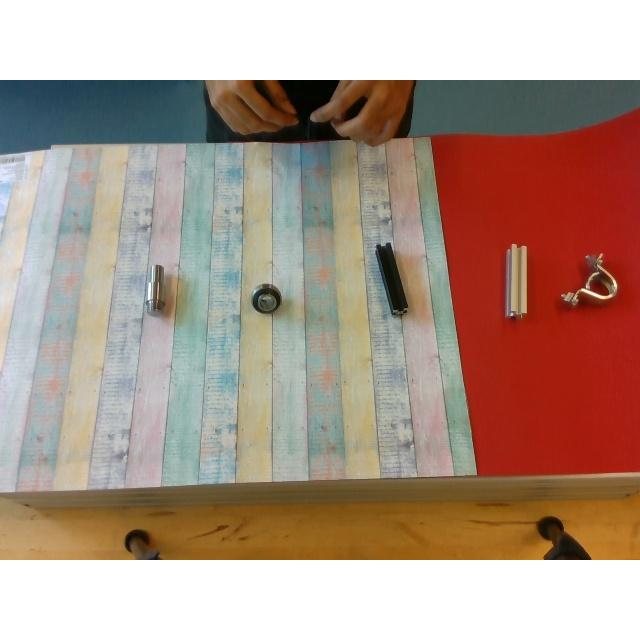Axis2: (144, 264, 164, 310)
Bearing2: (250, 283, 282, 315)
F20_20_B: (375, 245, 407, 313)
F20_20_G: (503, 243, 527, 317)
Housing: (562, 253, 618, 305)
